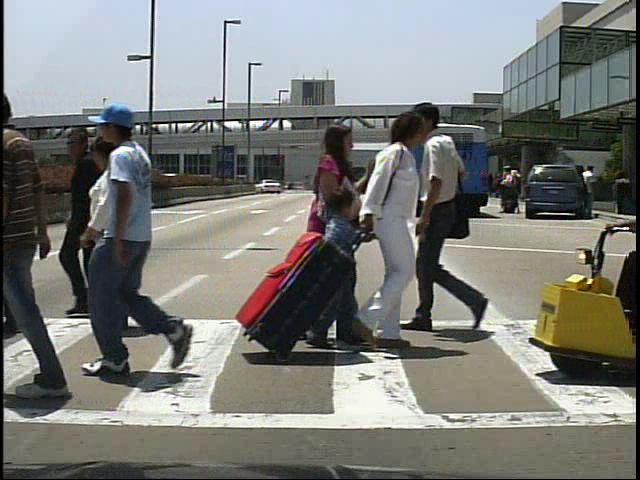person: (91, 105, 199, 388), (395, 98, 507, 346), (342, 117, 441, 368), (0, 84, 71, 402), (301, 121, 372, 358), (80, 138, 145, 332), (58, 128, 117, 323), (311, 181, 360, 319), (582, 164, 602, 218), (498, 166, 516, 219), (504, 165, 523, 215)
